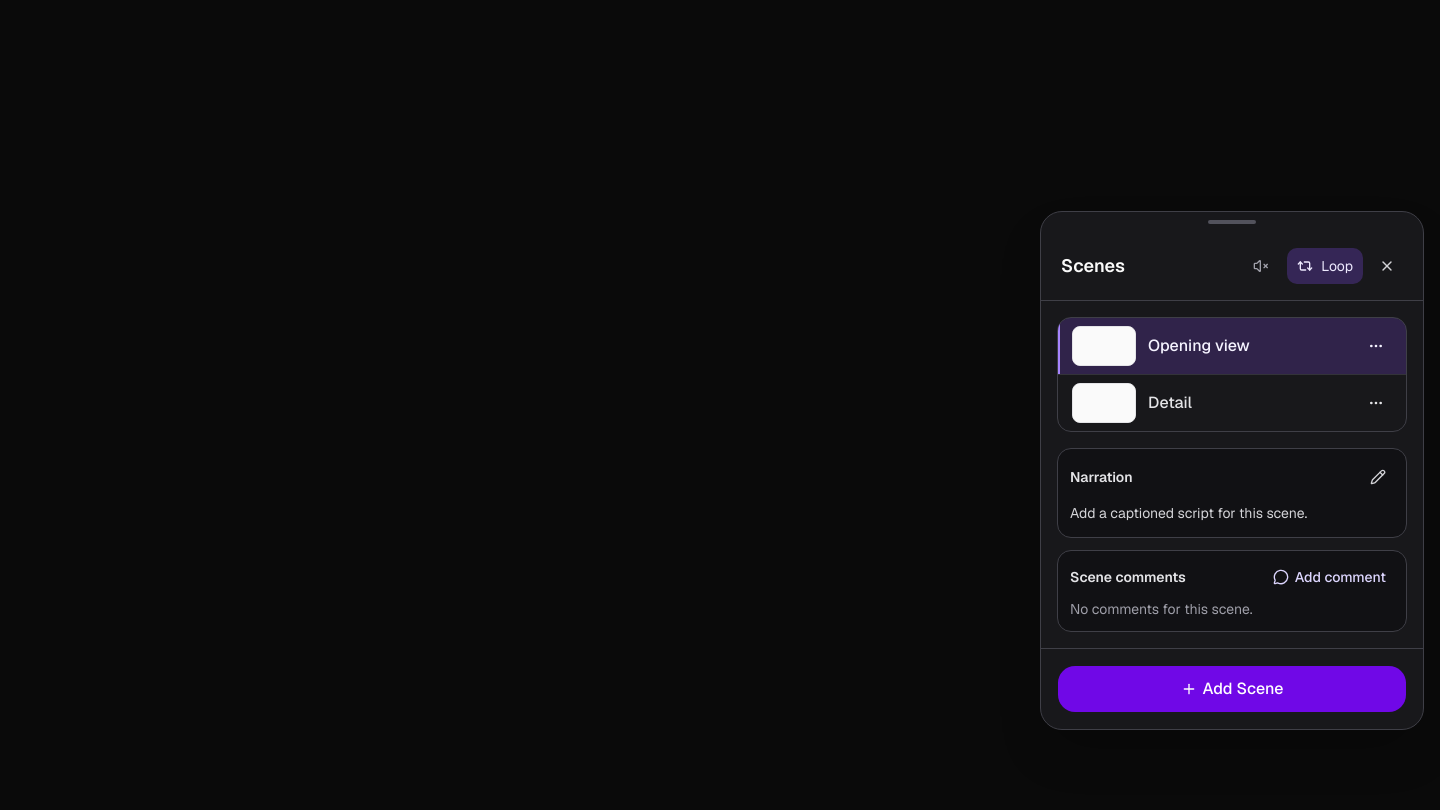
Test: ScenePanel › dismisses scene actions outside the menu, on another scene, and with Escape
Click the button named "Scene actions for Opening view" at {"x": 1376, "y": 346}, box left=1358, top=328, right=1394, bottom=364
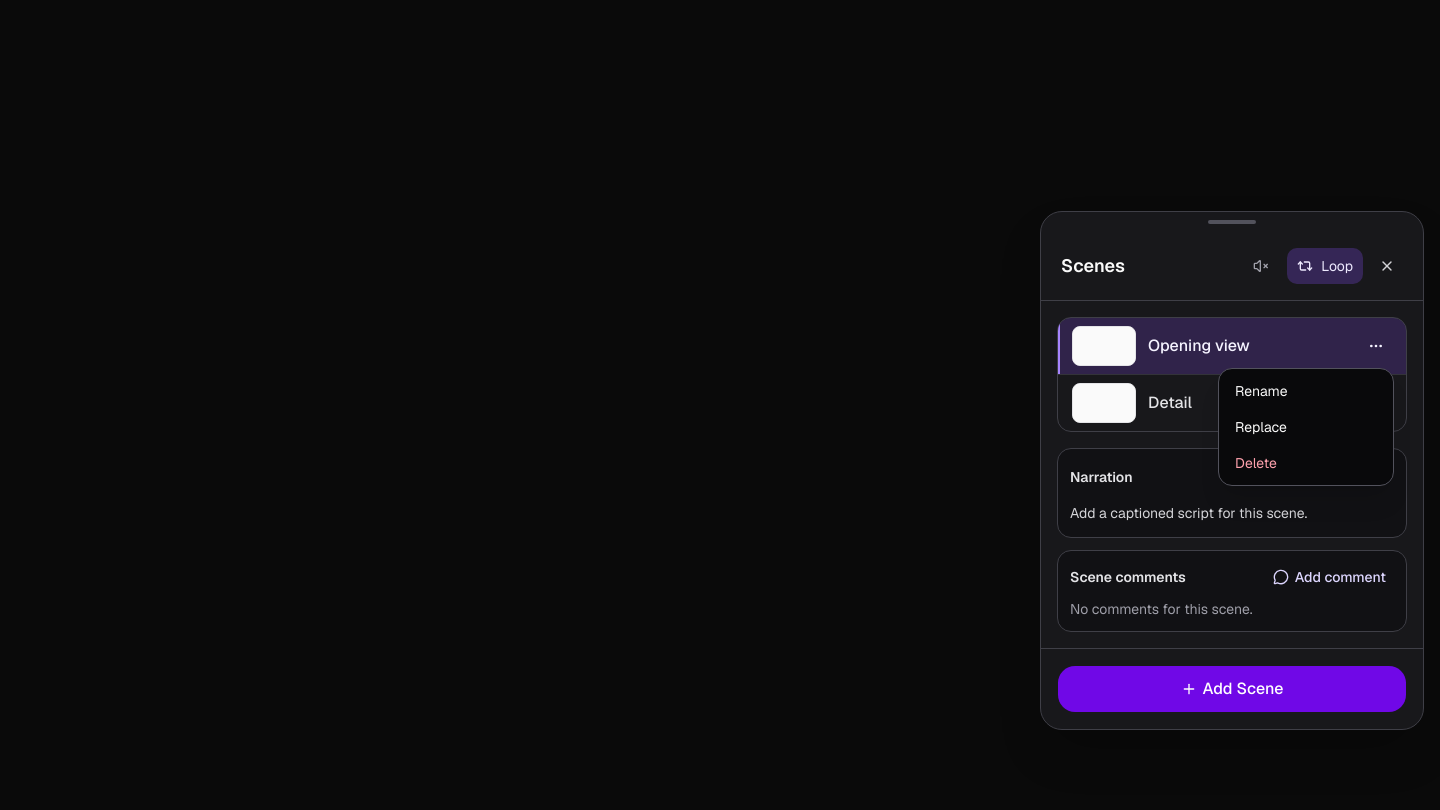
Result: the button "Rename" is shown at left=1223, top=373, right=1389, bottom=409
Press the mouse on the element that starts with "Scenes" at {"x": 720, "y": 405}, box left=0, top=0, right=1439, bottom=809
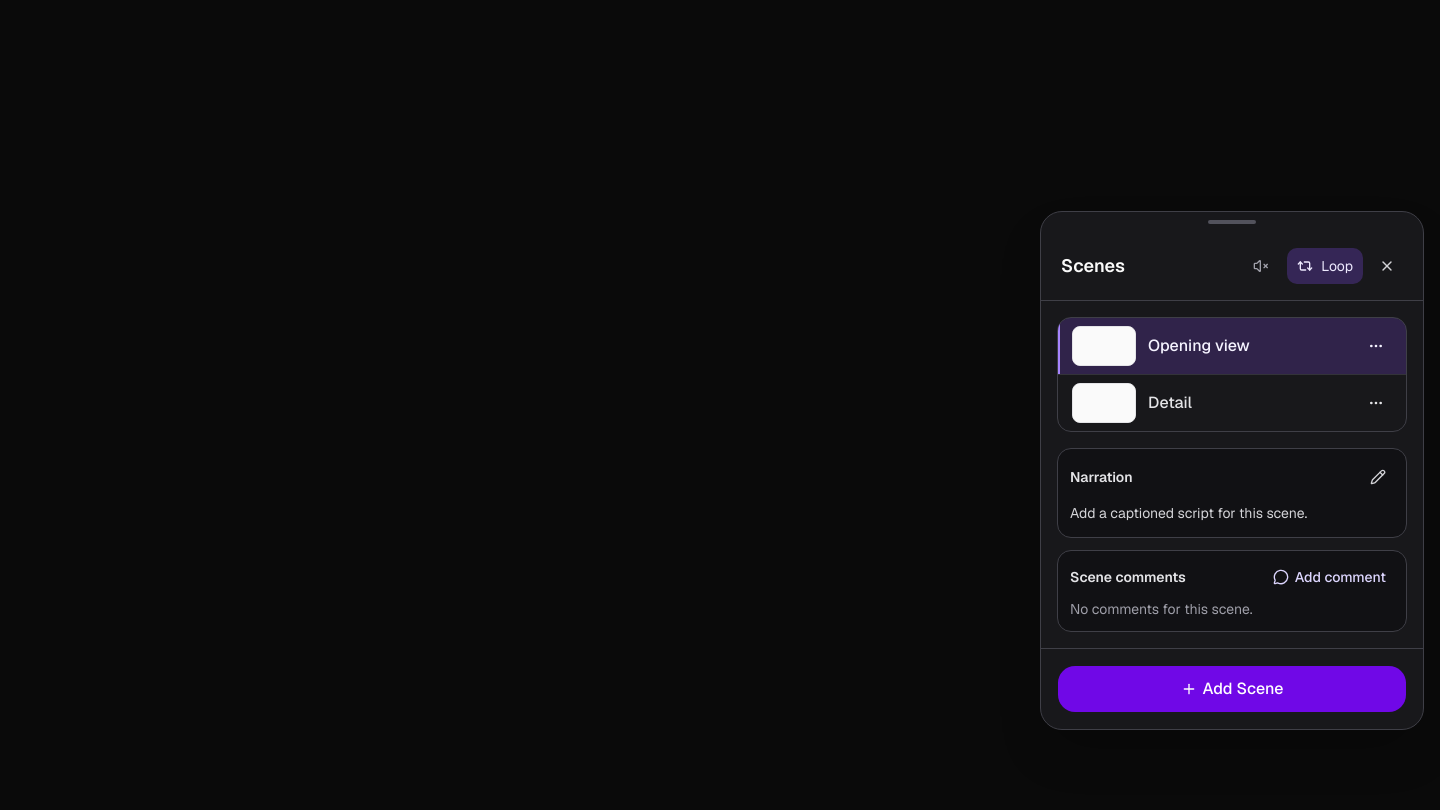
Result: the button "Rename" is gone
Click the button named "Scene actions for Opening view" at {"x": 1376, "y": 346}, box left=1358, top=328, right=1394, bottom=364
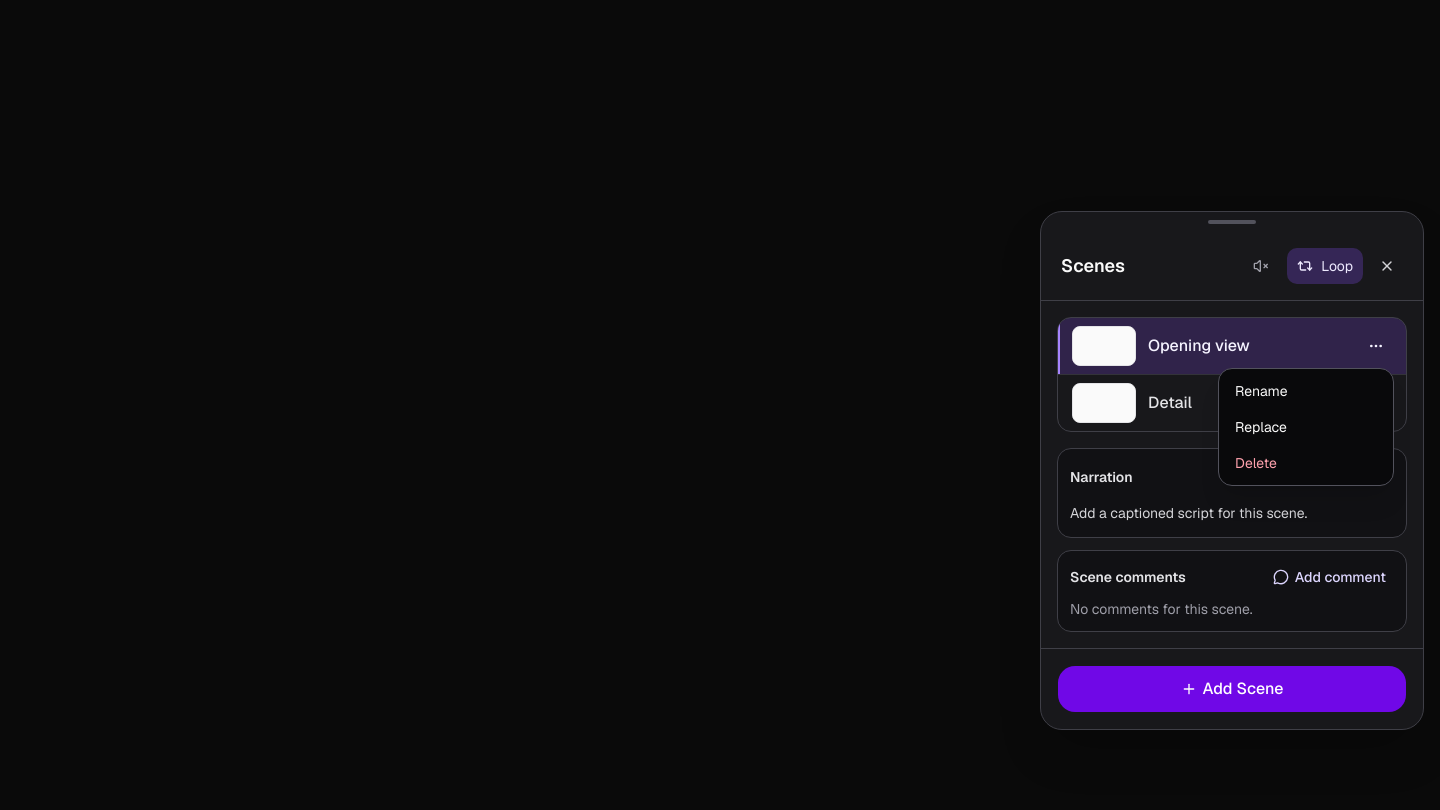
Click the button "Detail" at {"x": 1104, "y": 403}, box left=1072, top=383, right=1354, bottom=423
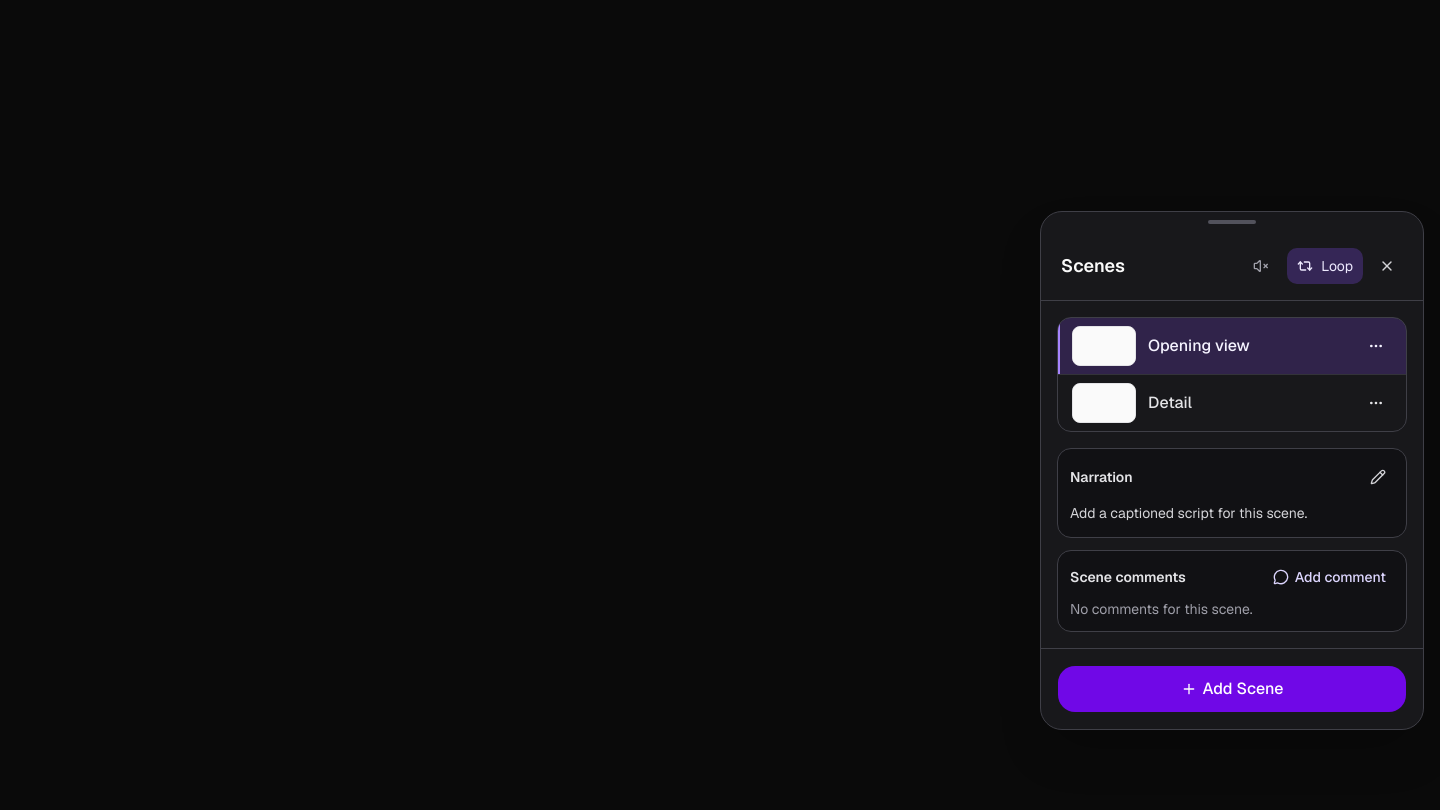
Result: the button "Rename" is gone
Click the button named "Scene actions for Opening view" at {"x": 1376, "y": 346}, box left=1358, top=328, right=1394, bottom=364
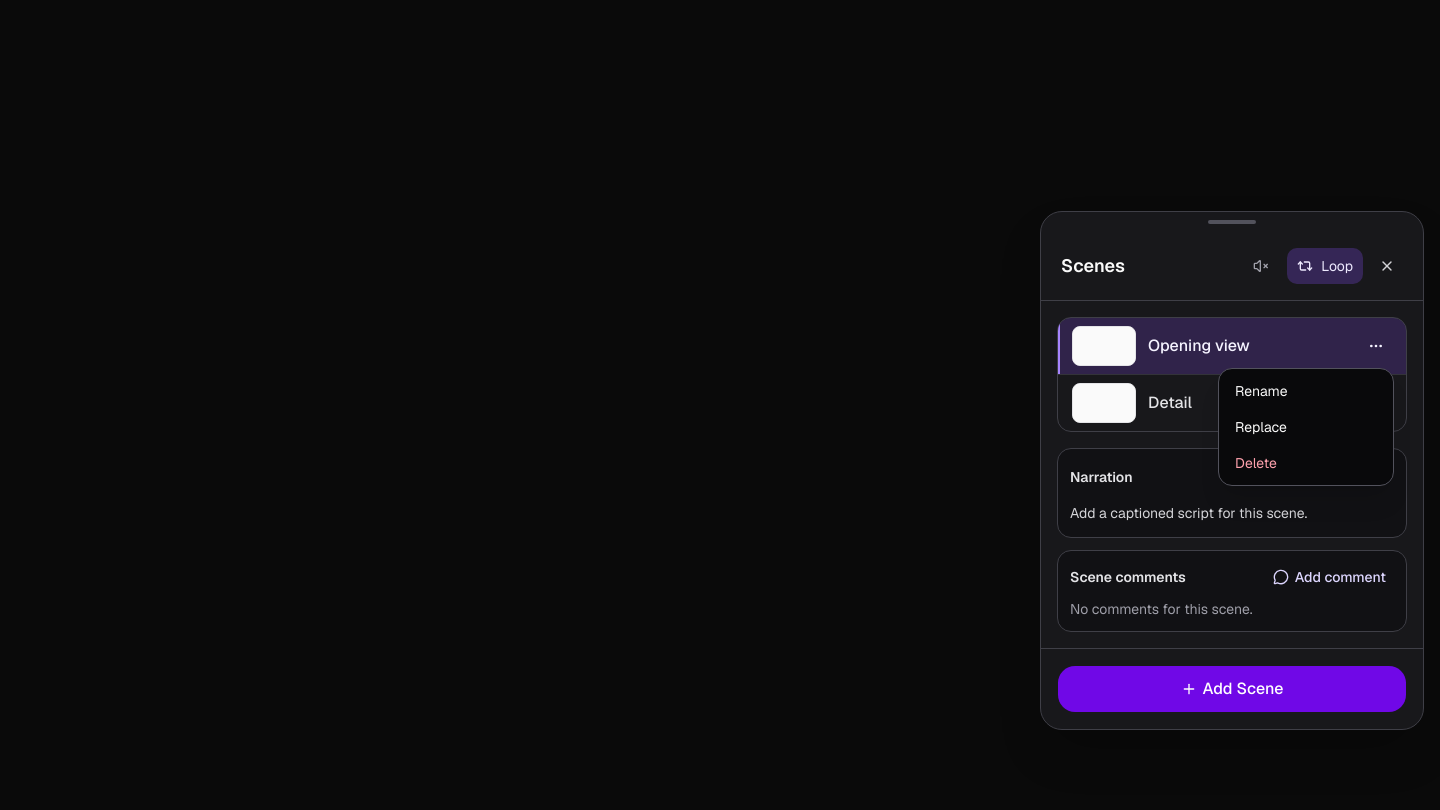
Press Escape
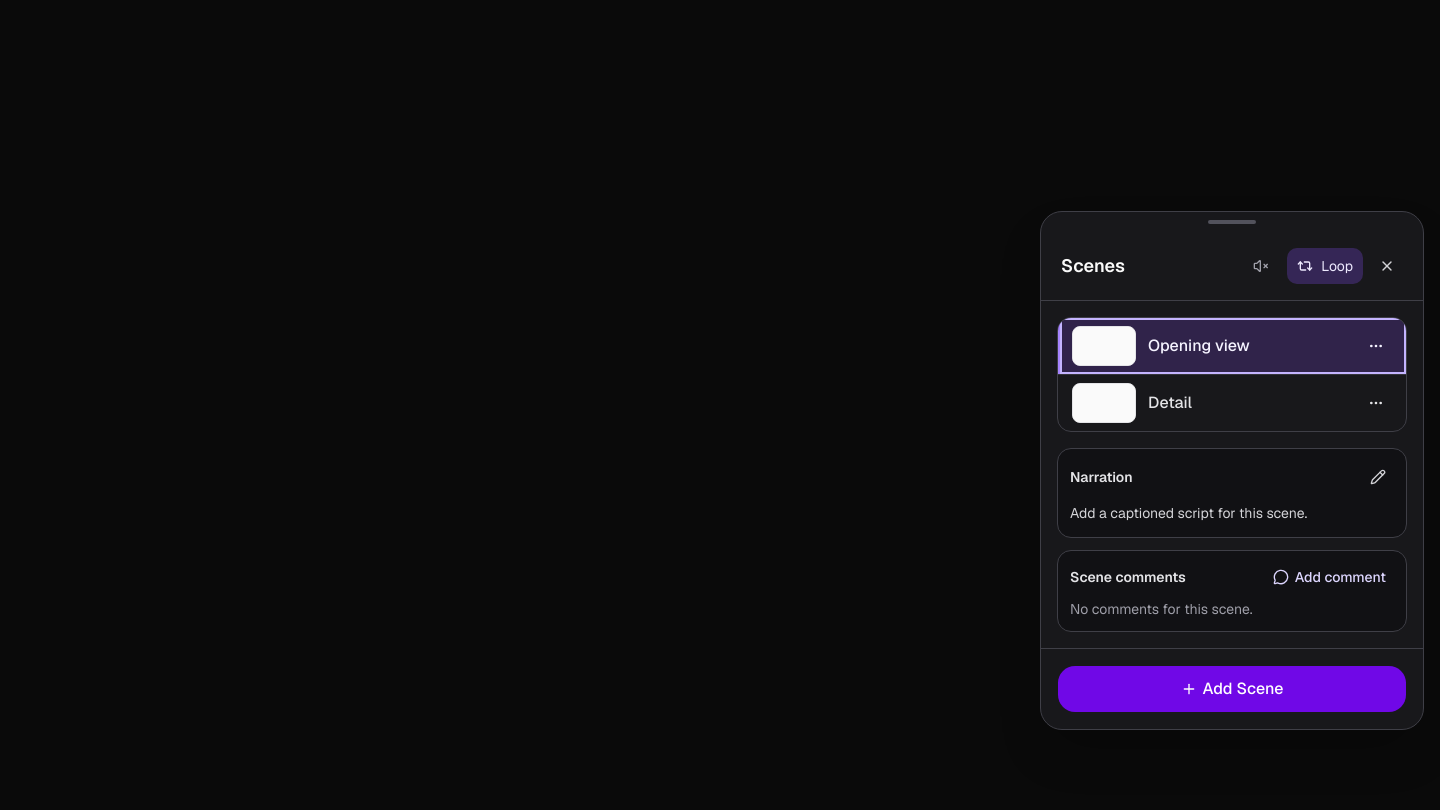
Result: the button "Rename" is gone
